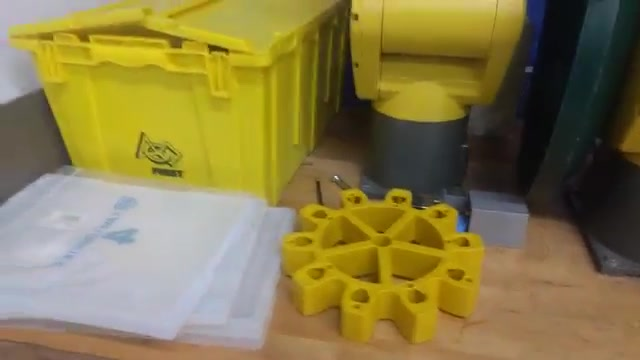gear: (281, 190, 489, 341)
